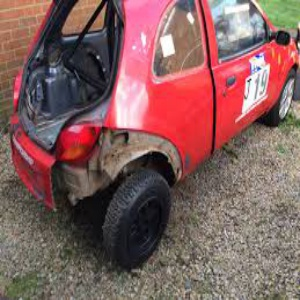bumper: (73, 121, 163, 217)
